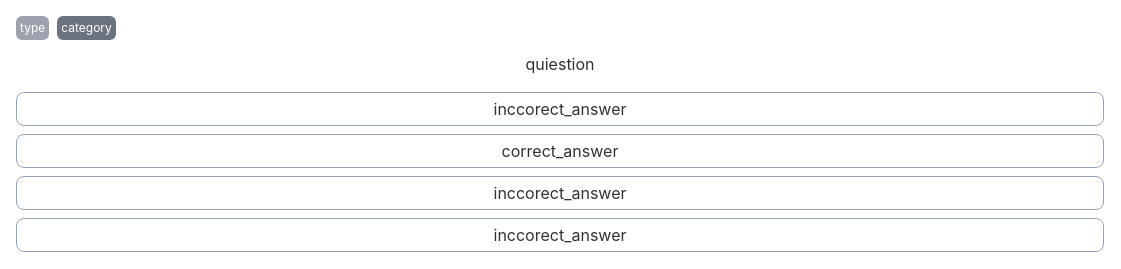
Test case: QuizCard 컴포넌트 테스트 › 사용자 답변 선택 후, 새로운 답변 선택 불가 처리 테스트
Click the button "correct_answer": (560, 151) [16,134,1104,168]
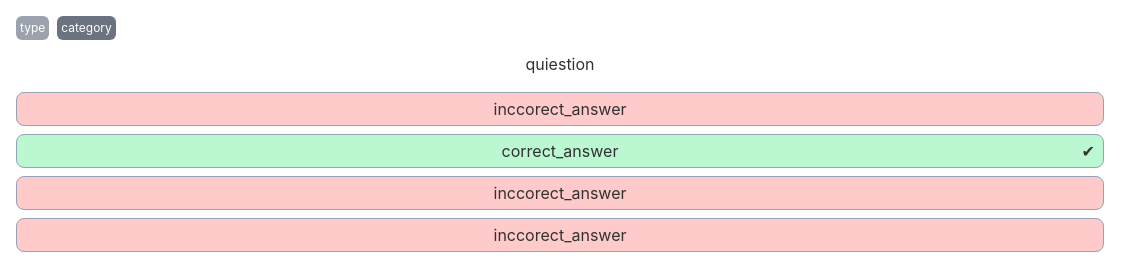
Check: the button "correct_answer ✔" is disabled, box [16,134,1104,168]
Check: the 1st button "inccorect_answer" is disabled, box [16,92,1104,126]
Check: the 2nd button "inccorect_answer" is disabled, box [16,176,1104,210]
